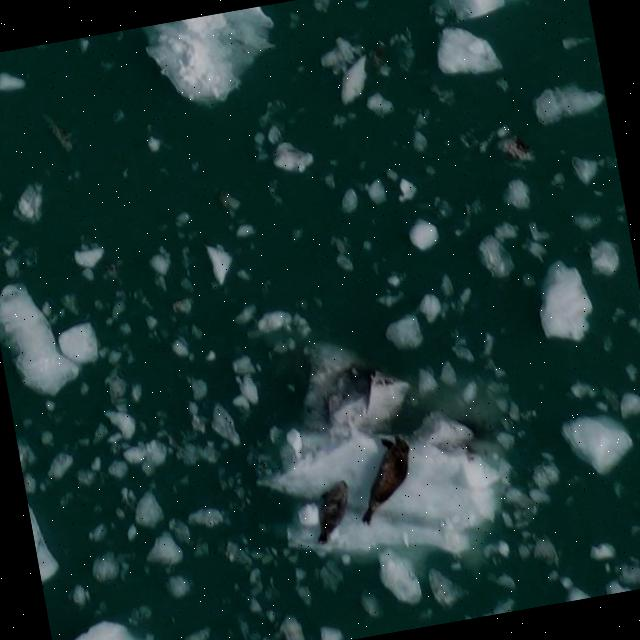seal: (362, 434, 410, 524), (318, 479, 349, 542)
